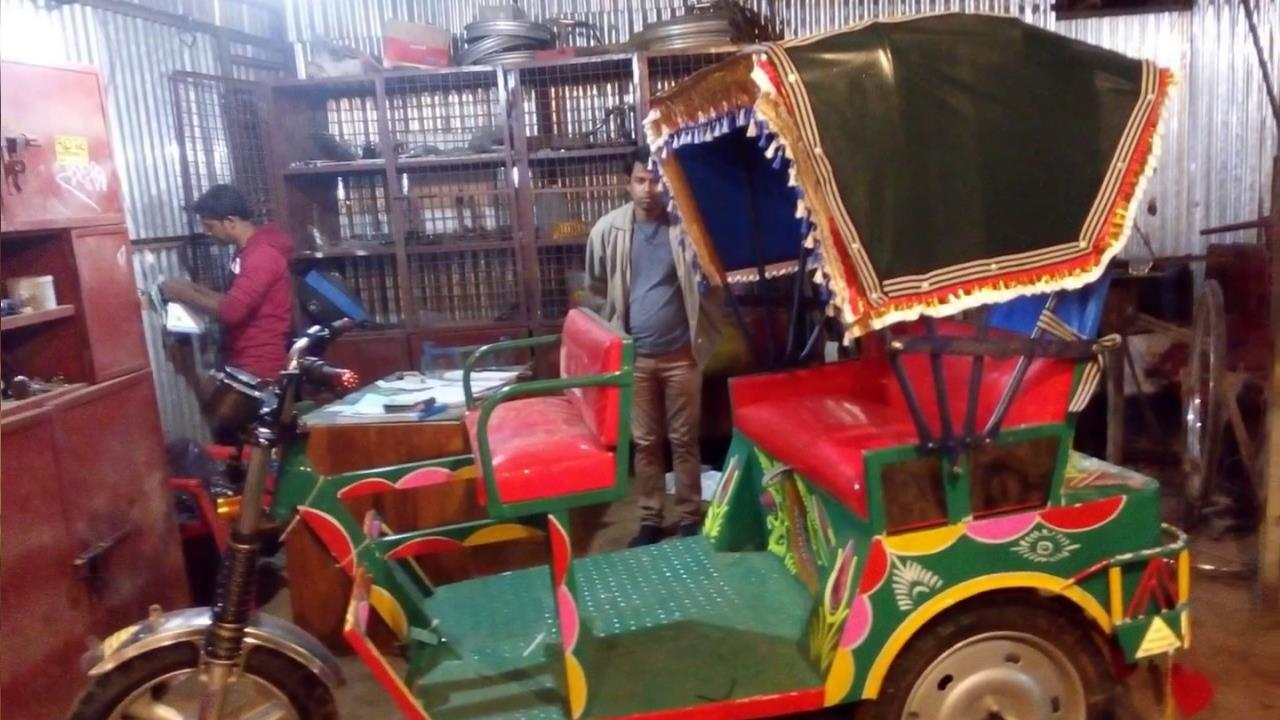Rickshaw: (85, 58, 1162, 706)
